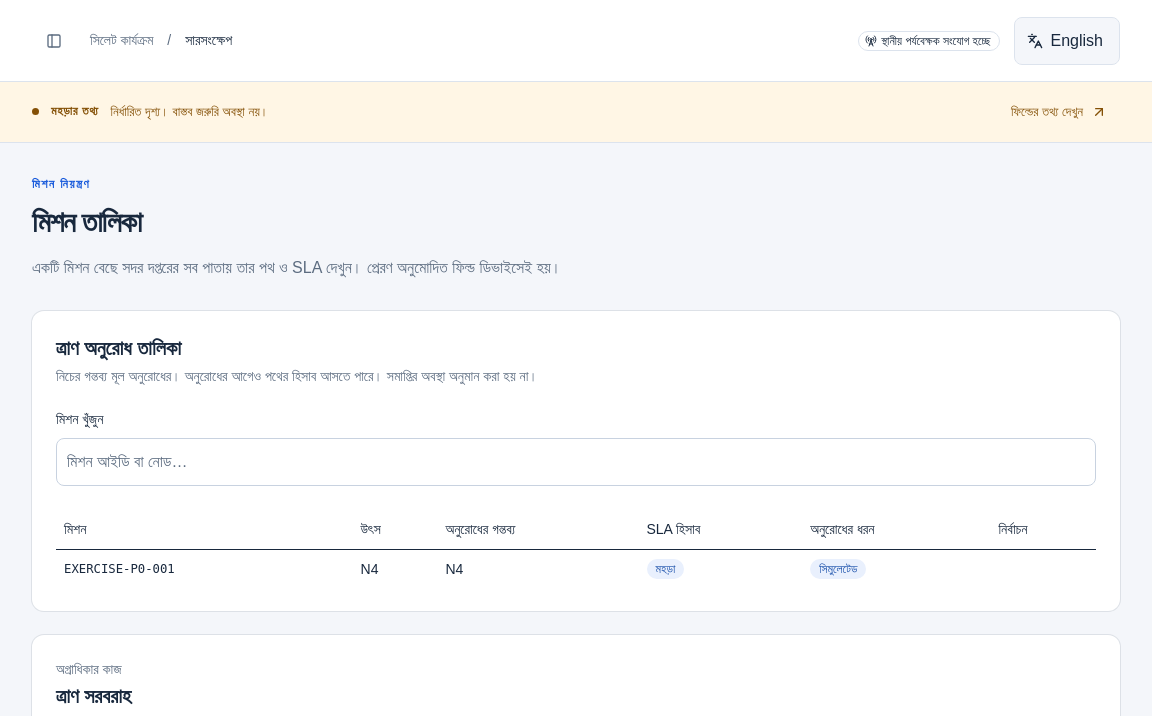
it: routed headquarters › uses reception time for a live no-route update between display clock ticks
Click the button "English" at (1067, 40), box [1014, 16, 1120, 64]
Wait 10000 ms
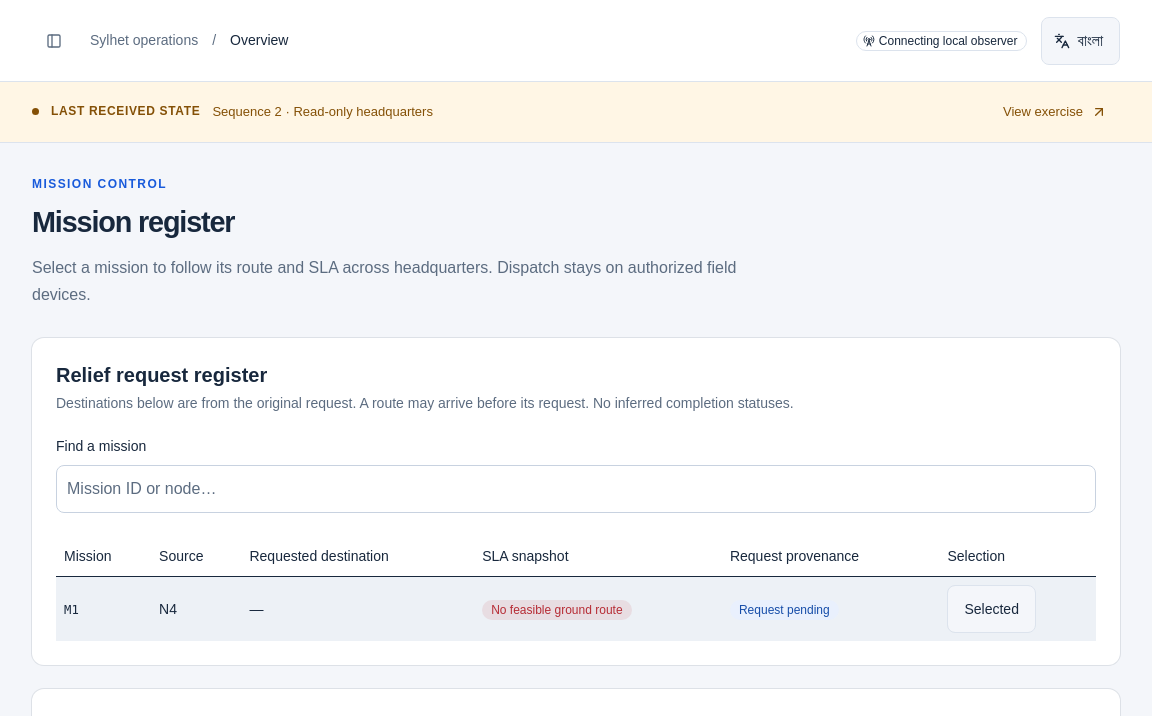
expect the text "No feasible ground route" is shown 2 times: met
